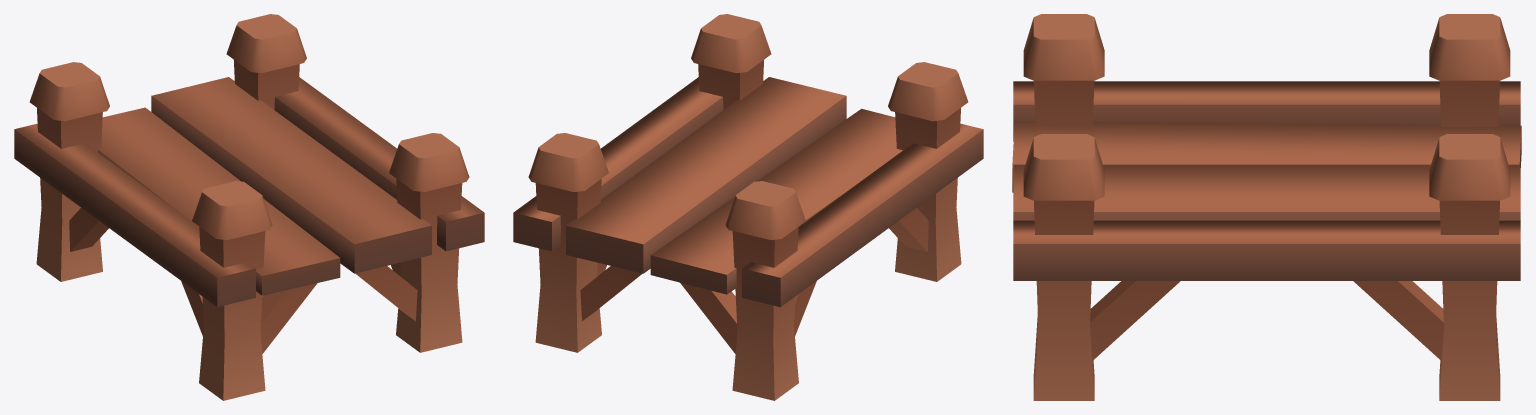
Rendered from structure-platform-dock-small.glb.
The picture shows the model from 3 angles, left to right: view 1: azimuth 30°, elevation 25°; view 2: azimuth 150°, elevation 25°; view 3: azimuth 270°, elevation 25°; orthographic projection. The views are drawn at different scales.
Parts seen in each view (by area): view 1: structure-platform-dock-small; view 2: structure-platform-dock-small; view 3: structure-platform-dock-small.
Part boxes in pixels (left/top/right/bottom): structure-platform-dock-small: left=14, top=14, right=484, bottom=400; structure-platform-dock-small: left=513, top=14, right=983, bottom=400; structure-platform-dock-small: left=1012, top=14, right=1521, bottom=400.
Size of the model in its own units: 1.9 by 1.31 by 2.51.
